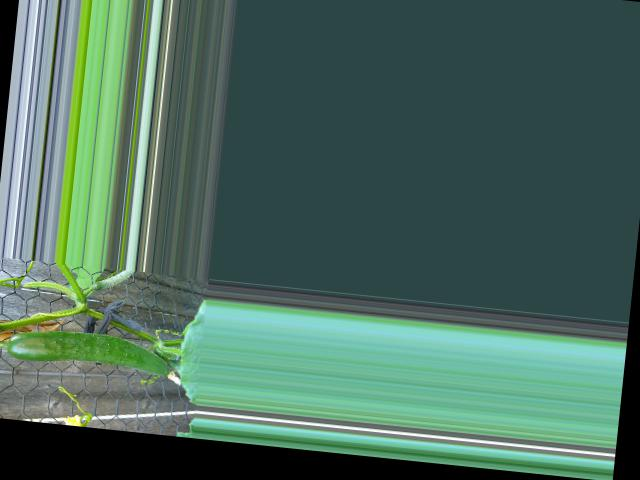cucumber: (5, 323, 171, 376)
